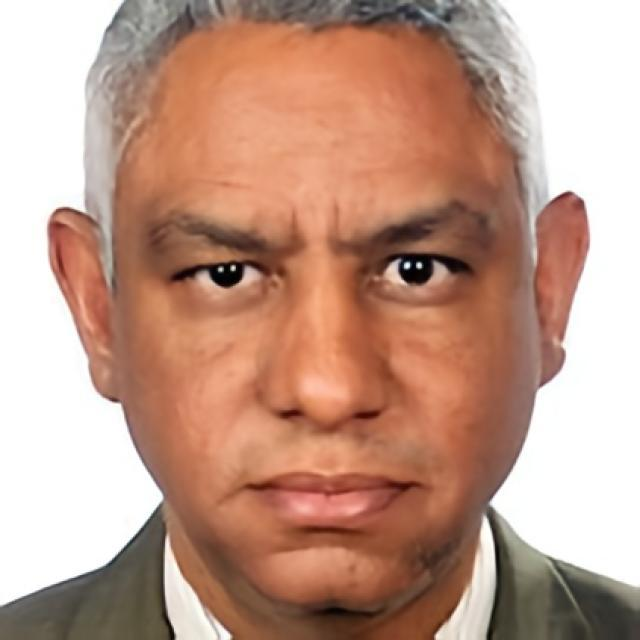anger: (118, 56, 534, 616)
